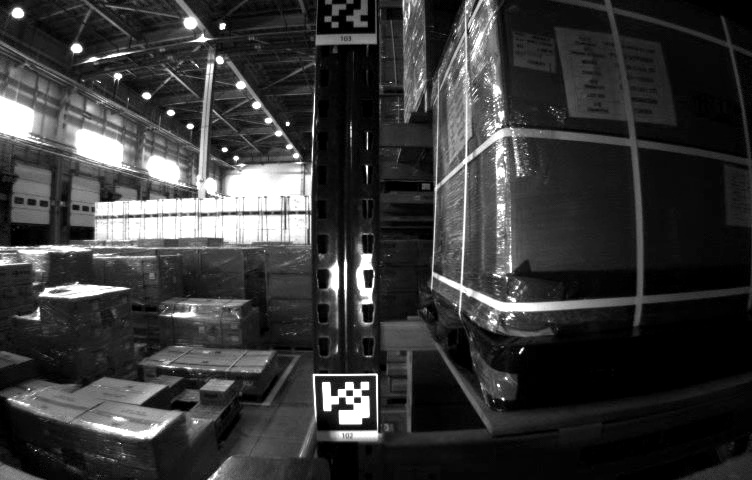True Barcode: (512, 28, 556, 75)
